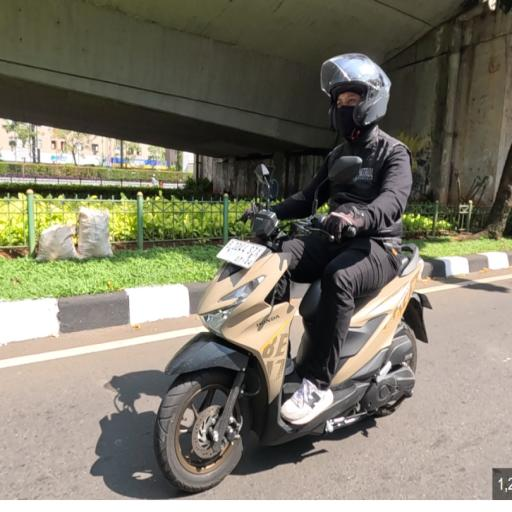Helmet: (322, 53, 391, 130)
Motor: (154, 204, 431, 492)
